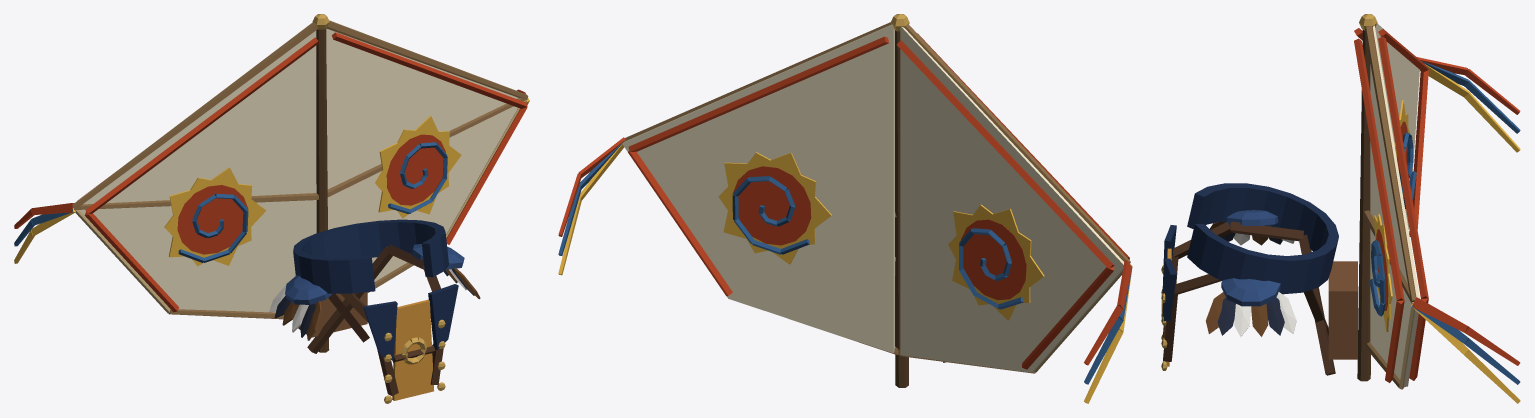
The model's file is kitewing_chief_coat.glb.
3 views of the same model, side by side, from view 1: azimuth 30°, elevation 25°; view 2: azimuth 150°, elevation 25°; view 3: azimuth 270°, elevation 25° (orthographic). The views are drawn at different scales.
Parts seen in each view (by area): view 1: kitewing_chief_coat; view 2: kitewing_chief_coat; view 3: kitewing_chief_coat.
Boxes of the visible parts, x1,y1,x2,y2 form: kitewing_chief_coat: [14, 14, 529, 403]; kitewing_chief_coat: [558, 14, 1132, 403]; kitewing_chief_coat: [1161, 14, 1520, 403].
Bounding box in the file's own units: 2.94 × 1.93 × 1.72.
